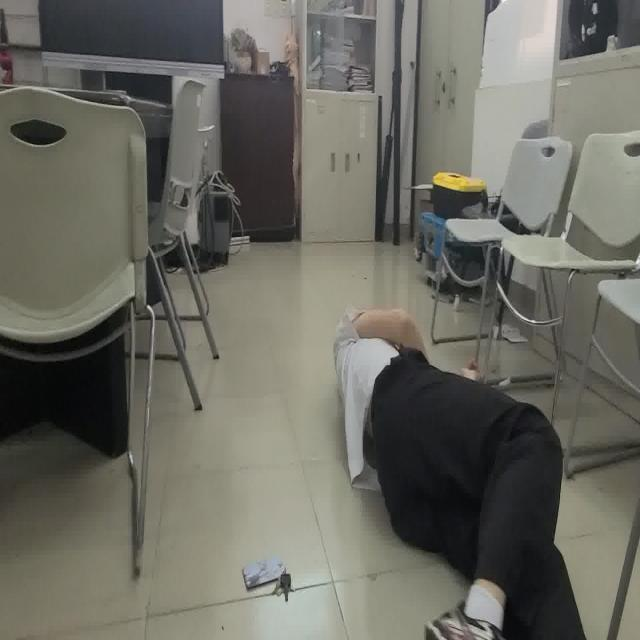fall: (336, 306, 589, 640)
